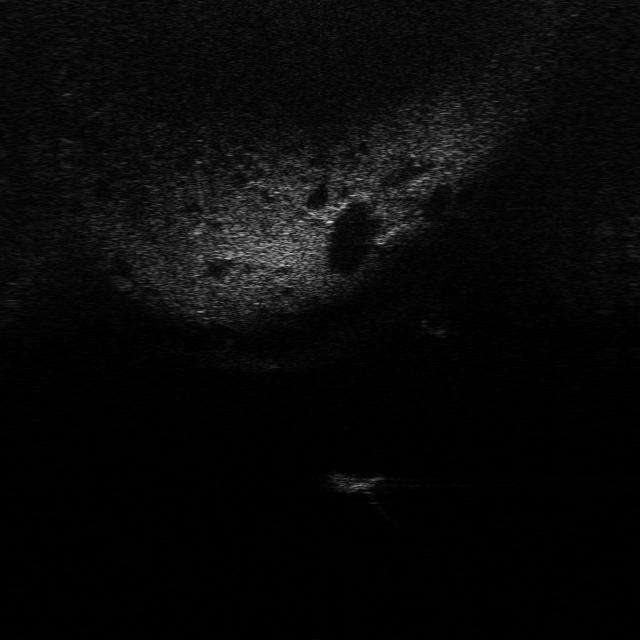ball: (416, 302, 458, 334)
cube: (323, 468, 383, 495)
